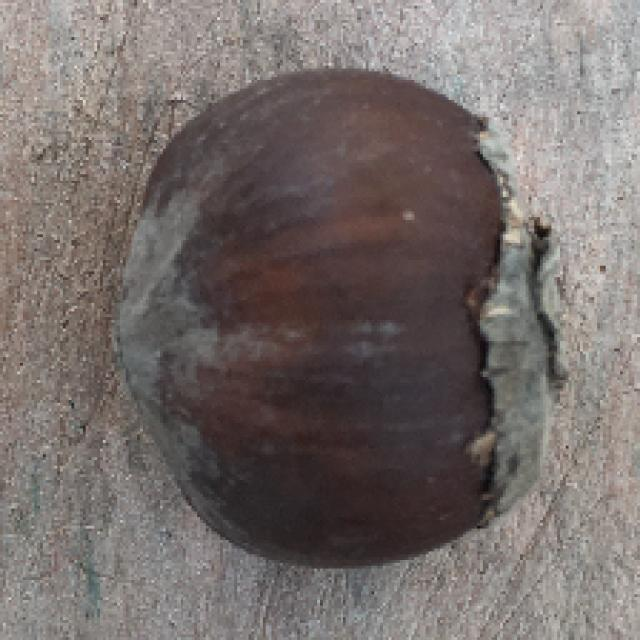damagedHazelnut: (114, 58, 578, 580)
